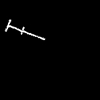double_crochet: (5, 20, 44, 39)
